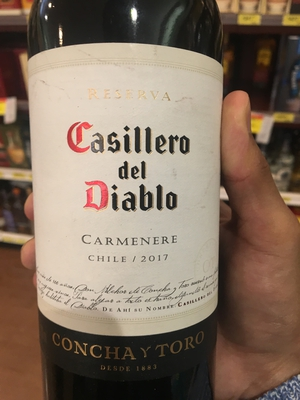casillero del diablo carmenere: (21, 3, 235, 387)
